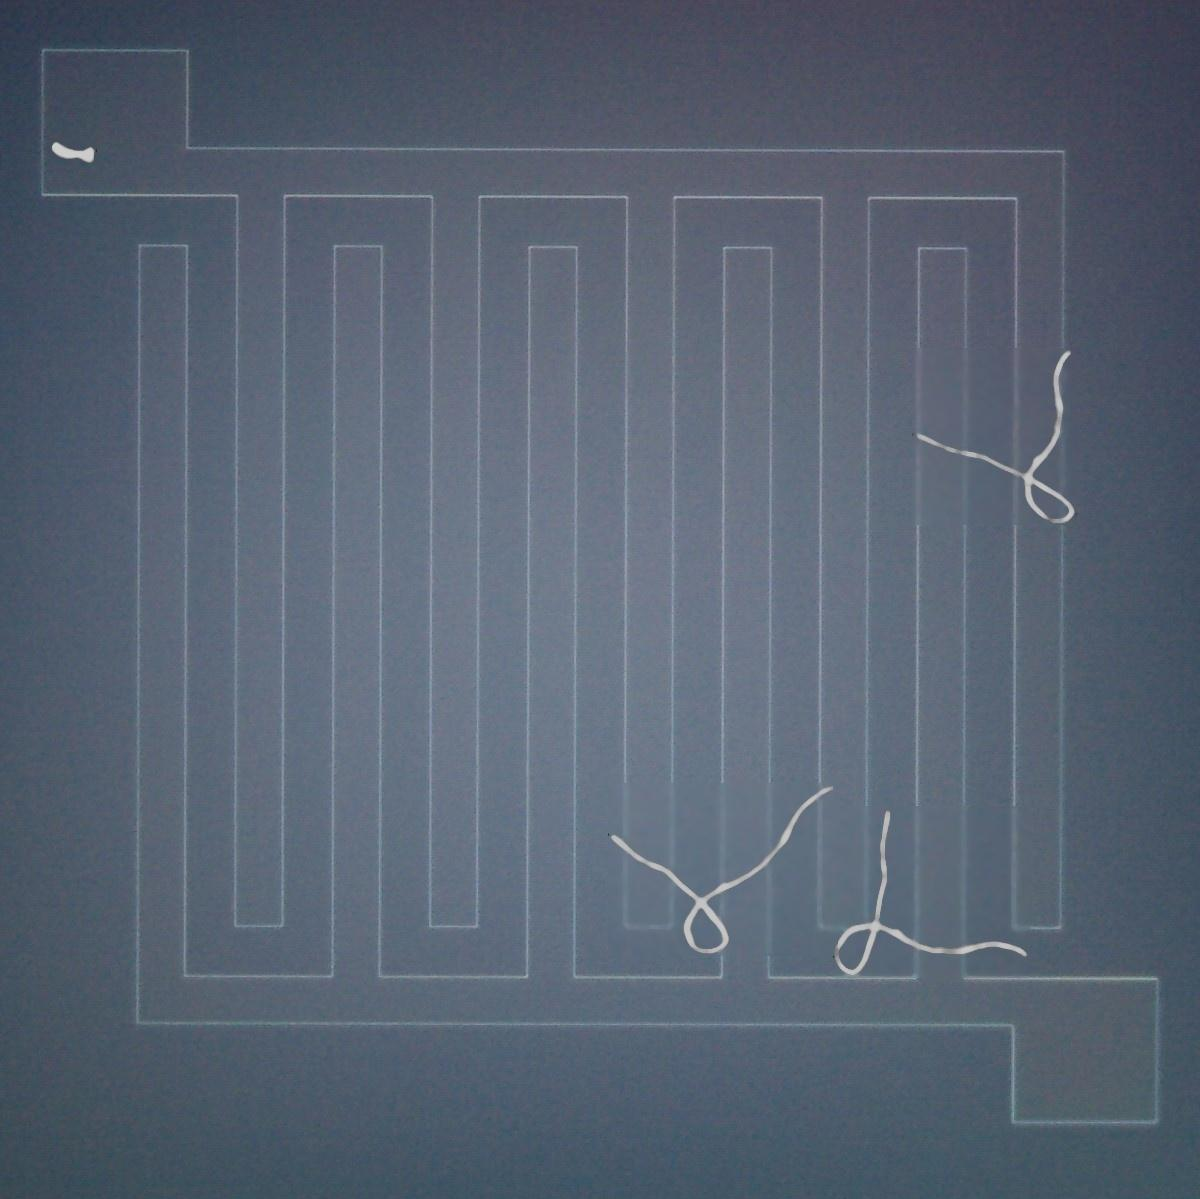foreign: (604, 780, 846, 965), (826, 806, 1045, 987), (911, 337, 1087, 529), (45, 134, 103, 173)
